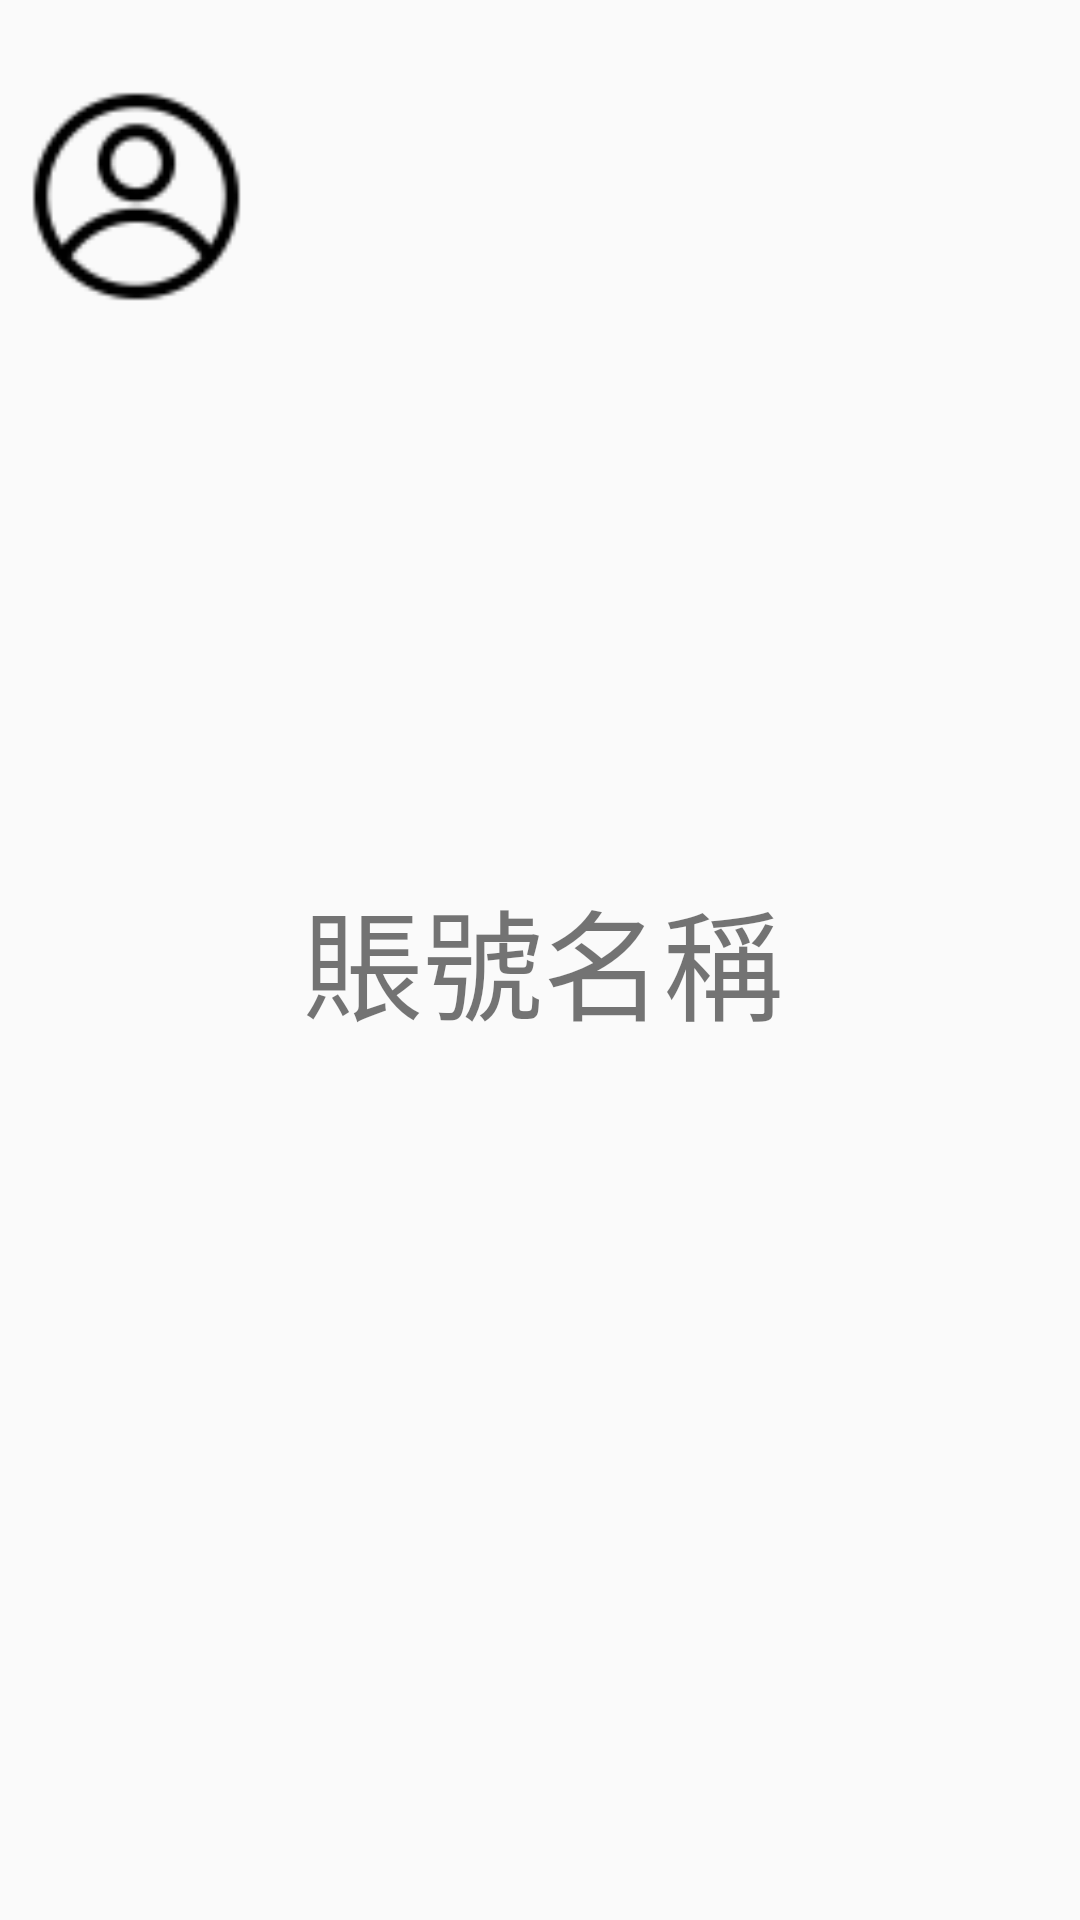

Where icons sit on this 1080px×1920px app screen, as (x1, y1, x2, y2):
photo: (32, 92, 241, 301)
